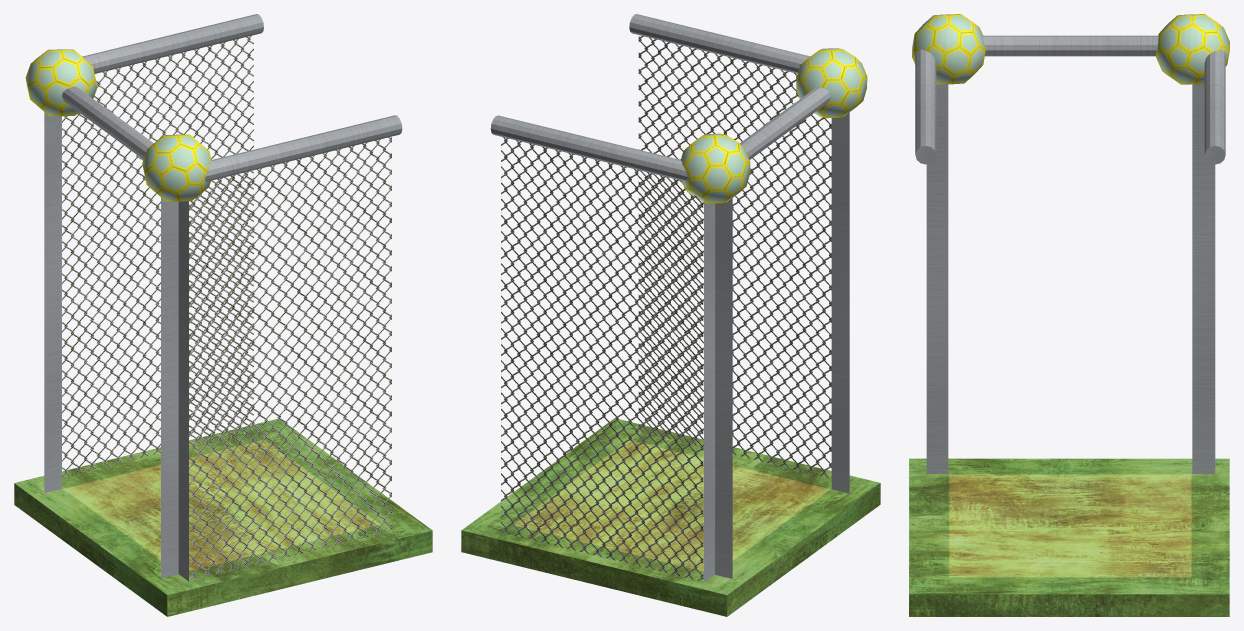
Rendered from elevator02.fbx.
3 renders of one model, left to right at view 1: azimuth 30°, elevation 25°; view 2: azimuth 150°, elevation 25°; view 3: azimuth 270°, elevation 25°, orthographic. The views are drawn at different scales.
Visible parts, largest first — view 1: elev_base, elev_rod3, elev_ball1, elev_rod2, elev_ball, elev_rod4; view 2: elev_base, elev_rod2, elev_ball, elev_rod3, elev_ball1, elev_rod4; view 3: elev_base, elev_rod4, elev_ball, elev_ball1, elev_rod3, elev_rod2.
Part boxes in pixels (x1=…): elev_base: x1=14, y1=35, x2=432, y2=616; elev_rod3: x1=205, y1=115, x2=402, y2=181; elev_ball1: x1=142, y1=134, x2=211, y2=201; elev_rod2: x1=82, y1=14, x2=263, y2=73; elev_ball: x1=25, y1=49, x2=97, y2=116; elev_rod4: x1=62, y1=86, x2=153, y2=159; elev_base: x1=461, y1=36, x2=880, y2=616; elev_rod2: x1=490, y1=115, x2=687, y2=181; elev_ball: x1=680, y1=133, x2=750, y2=203; elev_rod3: x1=629, y1=14, x2=810, y2=73; elev_ball1: x1=796, y1=48, x2=867, y2=118; elev_rod4: x1=740, y1=87, x2=830, y2=159; elev_base: x1=909, y1=83, x2=1229, y2=616; elev_rod4: x1=983, y1=35, x2=1158, y2=56; elev_ball: x1=1156, y1=14, x2=1229, y2=84; elev_ball1: x1=912, y1=14, x2=985, y2=84; elev_rod3: x1=915, y1=49, x2=936, y2=164; elev_rod2: x1=1204, y1=50, x2=1225, y2=164.
Bounding box in the file's own units: 100 × 166 × 100.
1 material, 1 textured.
